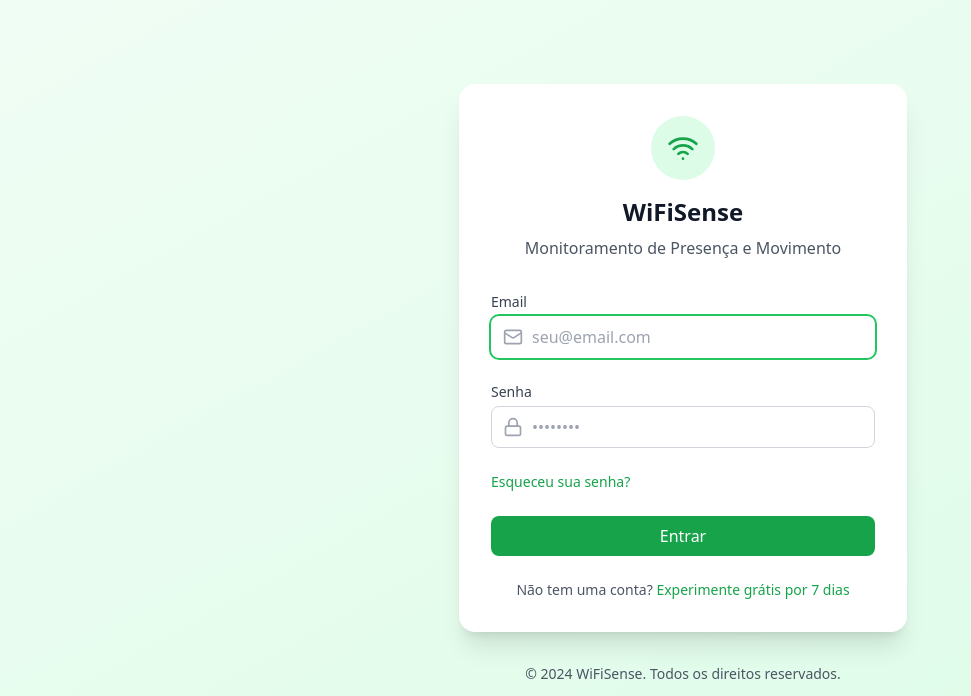
Test case: LoginPage › deve exibir loading durante login
Type "tenant@test.com" into the field labelled "Email" at (683, 337), box [491,316,875,358]
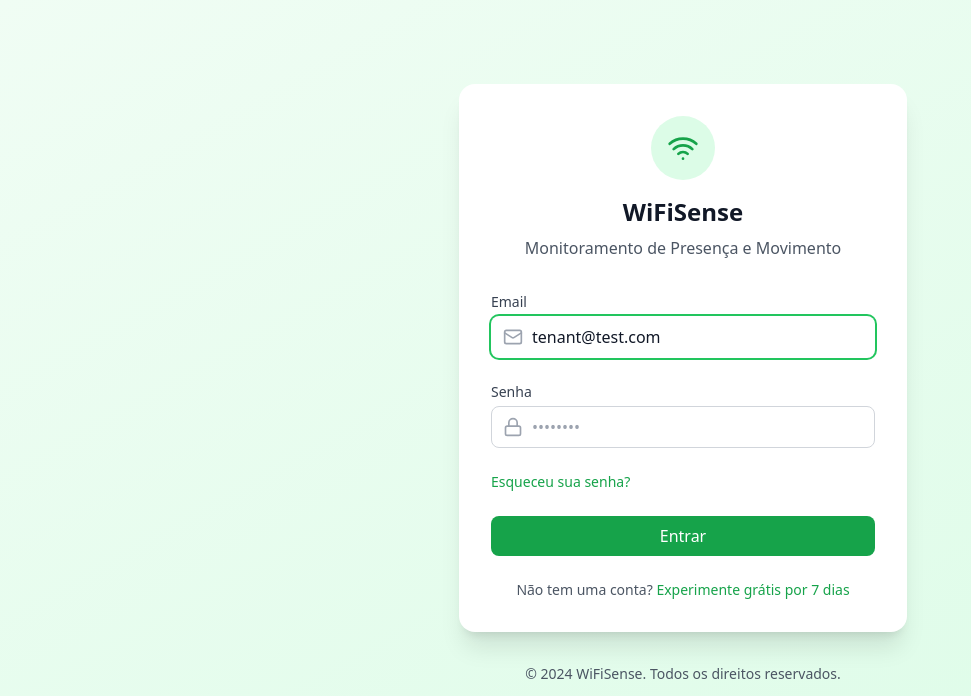
Type "password123" into the password field labelled "Senha" at (683, 427), box [491,406,875,448]
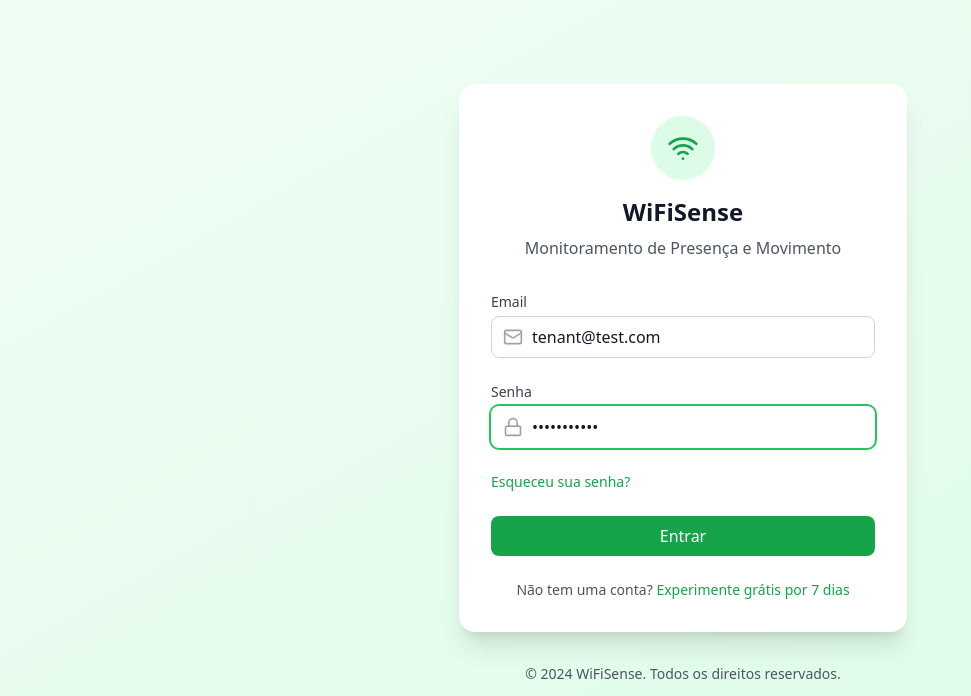
Click the button "Entrar" at (683, 536), box [491,516,875,556]
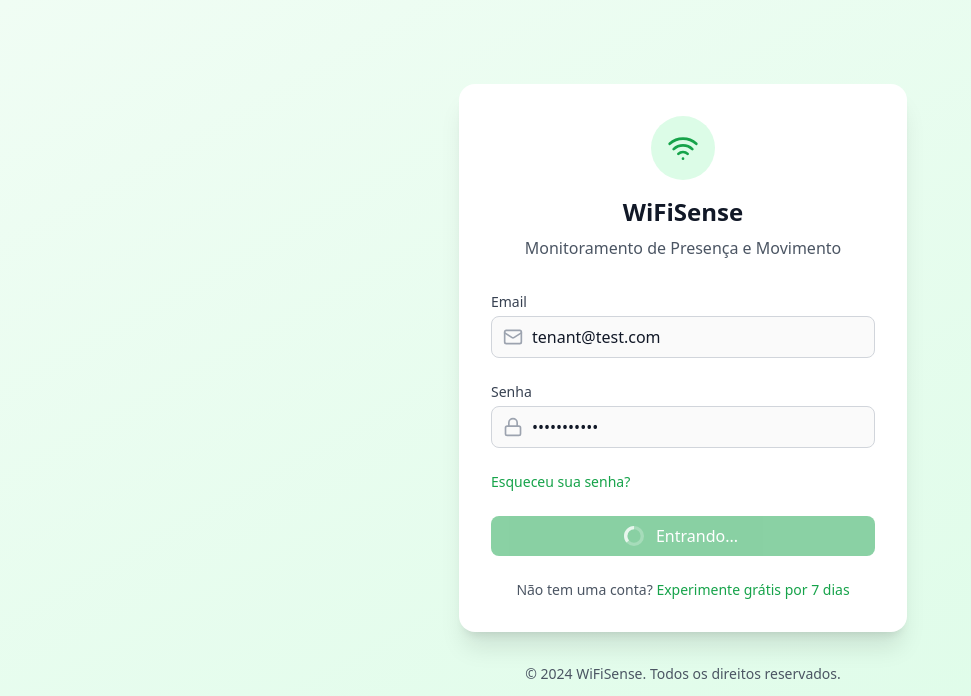
Expected: the text "Entrando..." is shown, [624,525,738,547]
Expected: the button "Entrando..." is disabled, [491,516,875,556]
